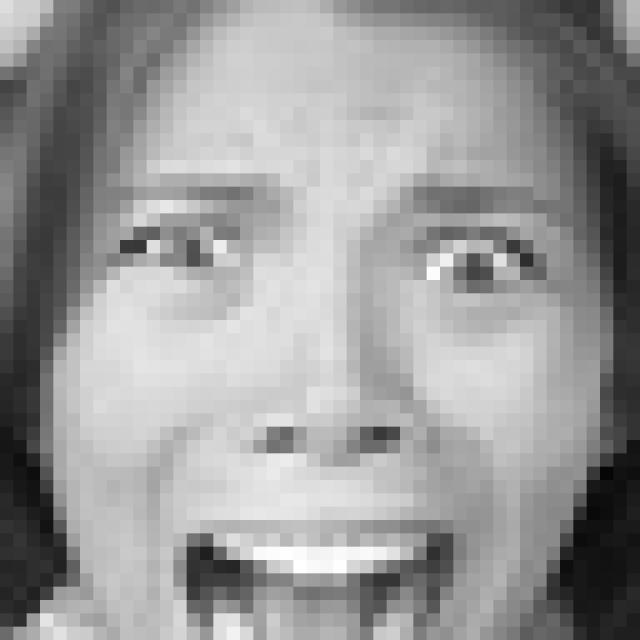fear: (97, 164, 585, 640)
